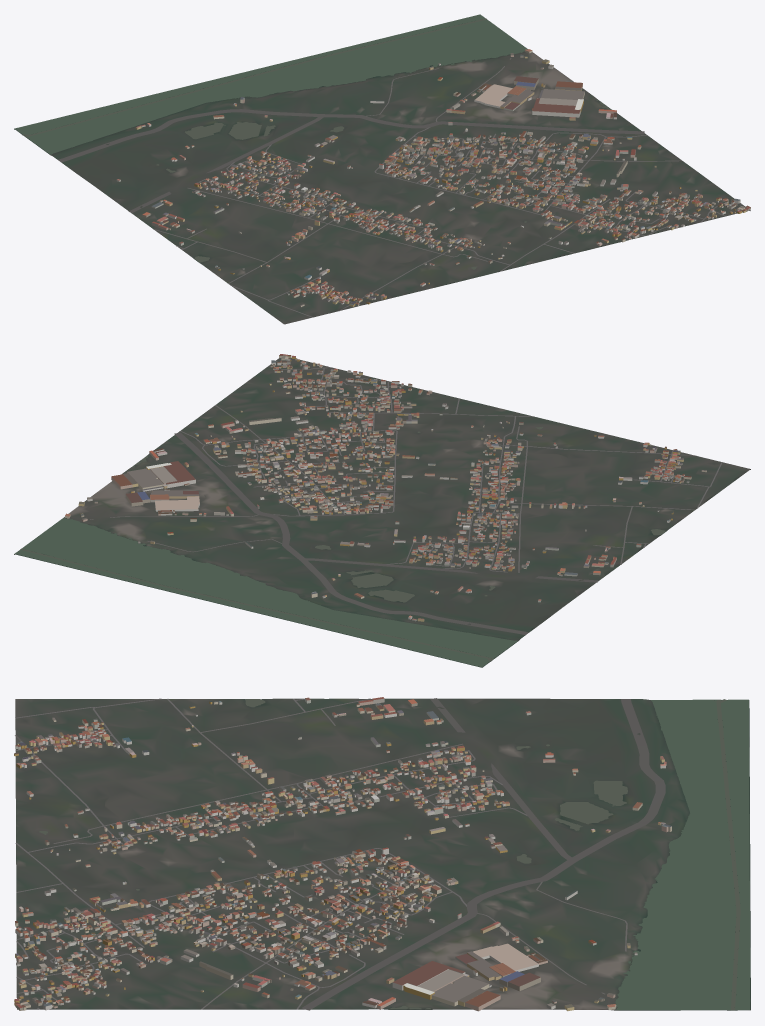
3 renders of one model, top to bottom at view 1: azimuth 30°, elevation 25°; view 2: azimuth 150°, elevation 25°; view 3: azimuth 270°, elevation 25°, orthographic. The views are drawn at different scales.
Visible parts, largest first — view 1: ground, buildings, water, roads; view 2: ground, buildings, water, roads; view 3: ground, buildings, water, roads.
Boxes of the visible parts, bbox=[...] form: ground: bbox=[14, 16, 750, 324]; buildings: bbox=[116, 49, 750, 306]; water: bbox=[15, 14, 611, 269]; roads: bbox=[58, 58, 742, 317]; ground: bbox=[14, 357, 750, 667]; buildings: bbox=[65, 354, 706, 621]; water: bbox=[15, 427, 665, 667]; roads: bbox=[90, 361, 722, 634]; ground: bbox=[15, 698, 750, 1010]; buildings: bbox=[14, 697, 671, 1011]; water: bbox=[39, 699, 750, 1010]; roads: bbox=[15, 698, 665, 1010].
Bounding box in the file's own units: 1415 × 17.58 × 1407.
